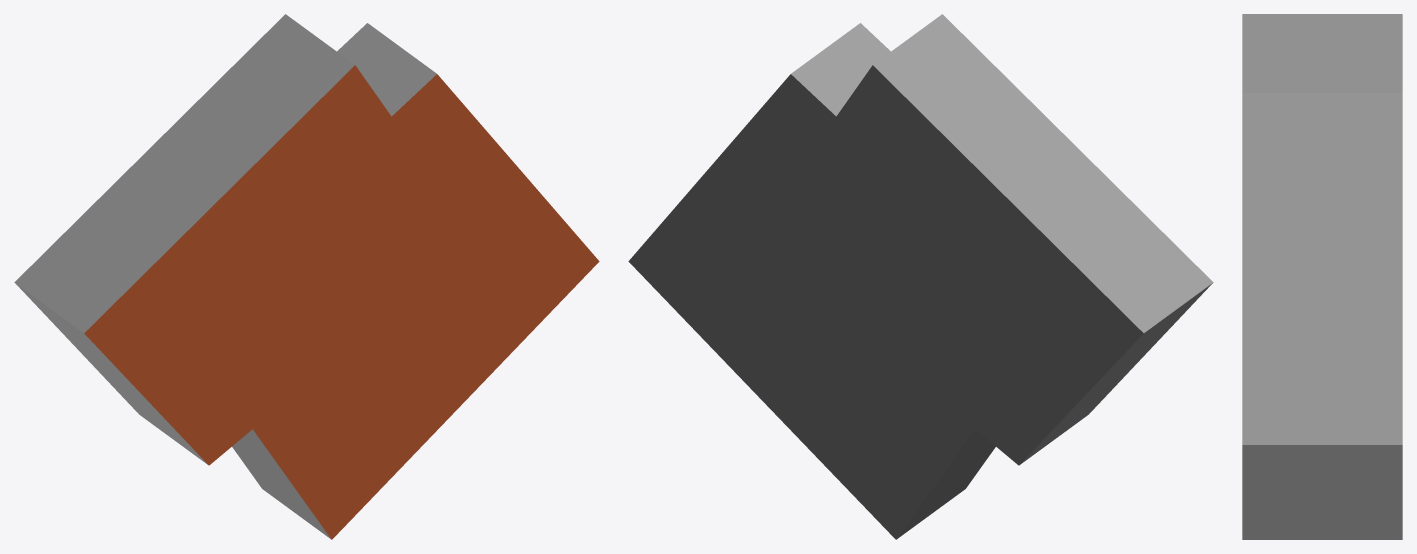
Rendered from construction_3514_assumed_A_Casa_h6m.obj.
The picture shows the model from 3 angles, left to right: view 1: azimuth 30°, elevation 25°; view 2: azimuth 150°, elevation 25°; view 3: azimuth 270°, elevation 25°; orthographic projection. The views are drawn at different scales.
Visible parts, largest first — view 1: construction_3514_assumed_A_Casa; view 2: construction_3514_assumed_A_Casa; view 3: construction_3514_assumed_A_Casa.
Part boxes in pixels (box(x1,y1,x2,y2)): construction_3514_assumed_A_Casa: box(14, 14, 599, 539); construction_3514_assumed_A_Casa: box(628, 14, 1213, 539); construction_3514_assumed_A_Casa: box(1242, 14, 1402, 539).
Bounding box in the file's own units: 25.6 × 22.27 × 6.
